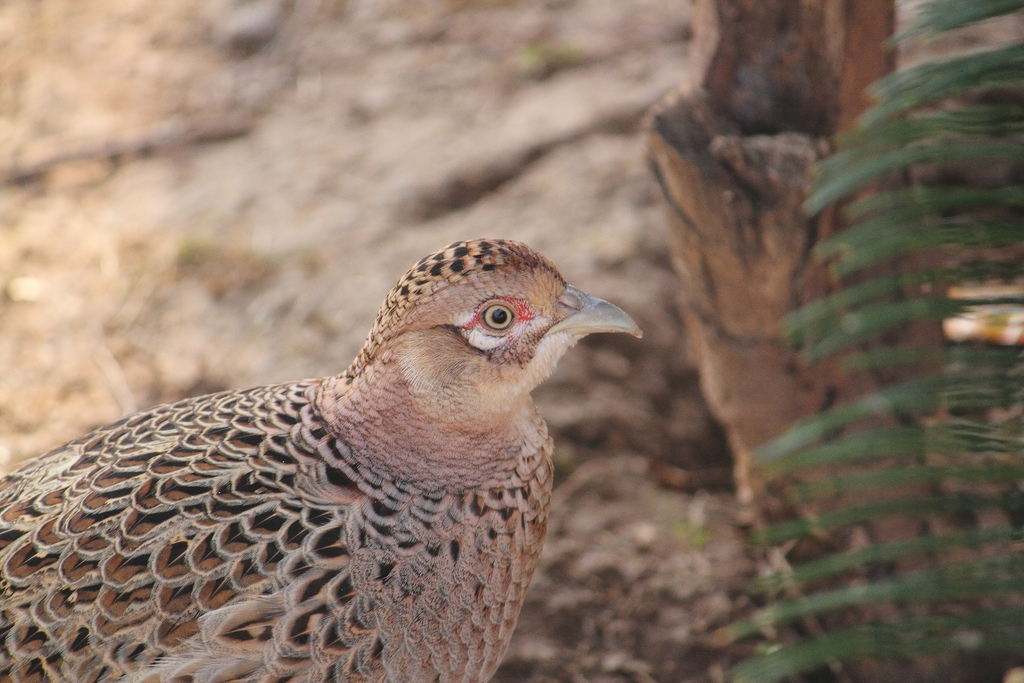Tree: (637, 0, 1023, 682), (724, 0, 1024, 683)
